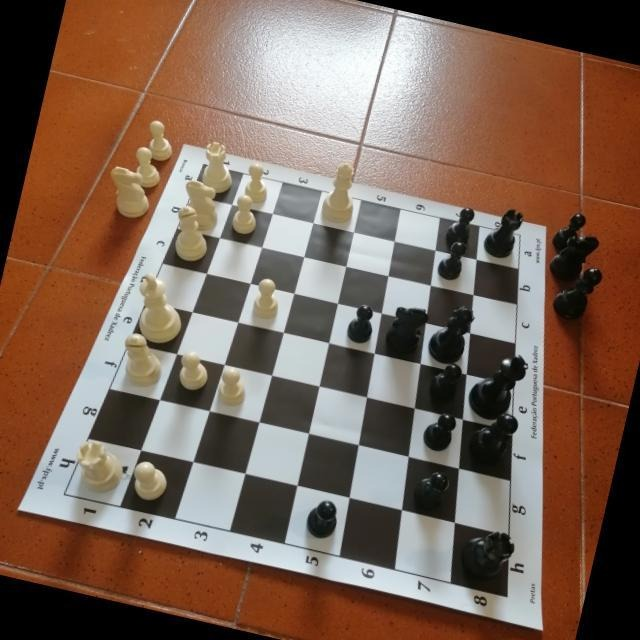black-bishop: (548, 258, 604, 325), (463, 405, 520, 468)
black-king: (463, 345, 529, 427)
black-knight: (546, 227, 600, 287), (382, 300, 430, 357)
black-pawn: (409, 466, 451, 514), (302, 495, 341, 541), (419, 408, 458, 454), (549, 208, 587, 255), (426, 358, 464, 402), (435, 237, 469, 283), (343, 302, 377, 346), (444, 203, 476, 247)
black-queen: (424, 299, 478, 369)
black-rook: (455, 523, 517, 585), (479, 203, 524, 261)
white-bishop: (114, 330, 169, 392), (168, 203, 216, 265)
white-king: (128, 269, 192, 348)
white-knight: (100, 164, 156, 222), (174, 177, 225, 235)
white-pawn: (127, 458, 171, 504), (128, 144, 167, 191), (141, 118, 179, 164), (174, 349, 213, 393), (213, 365, 250, 409), (249, 275, 284, 321), (240, 160, 274, 206), (229, 192, 262, 236)
white-queen: (317, 157, 363, 226)
white-rook: (67, 436, 128, 498), (196, 139, 240, 197)
